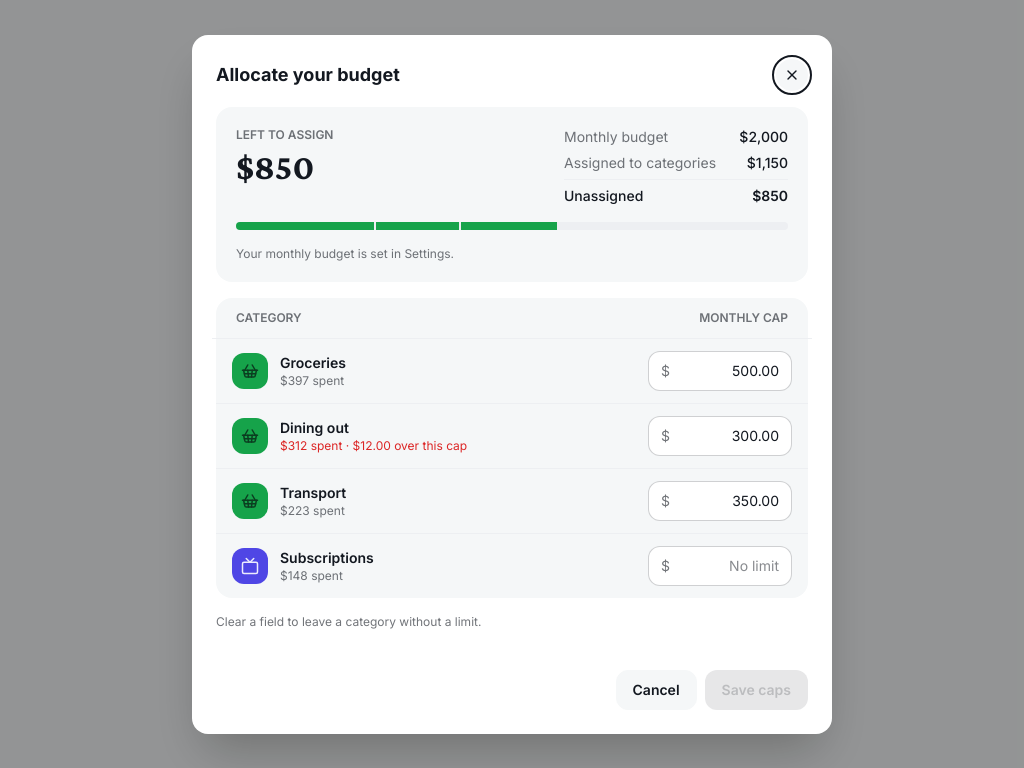
the four failures › reports invalid beside the form without refreshing behind itself
Replace the text in the field labelled "$" in the row of "Transport" with "250": (728, 500) [678, 482, 779, 520]
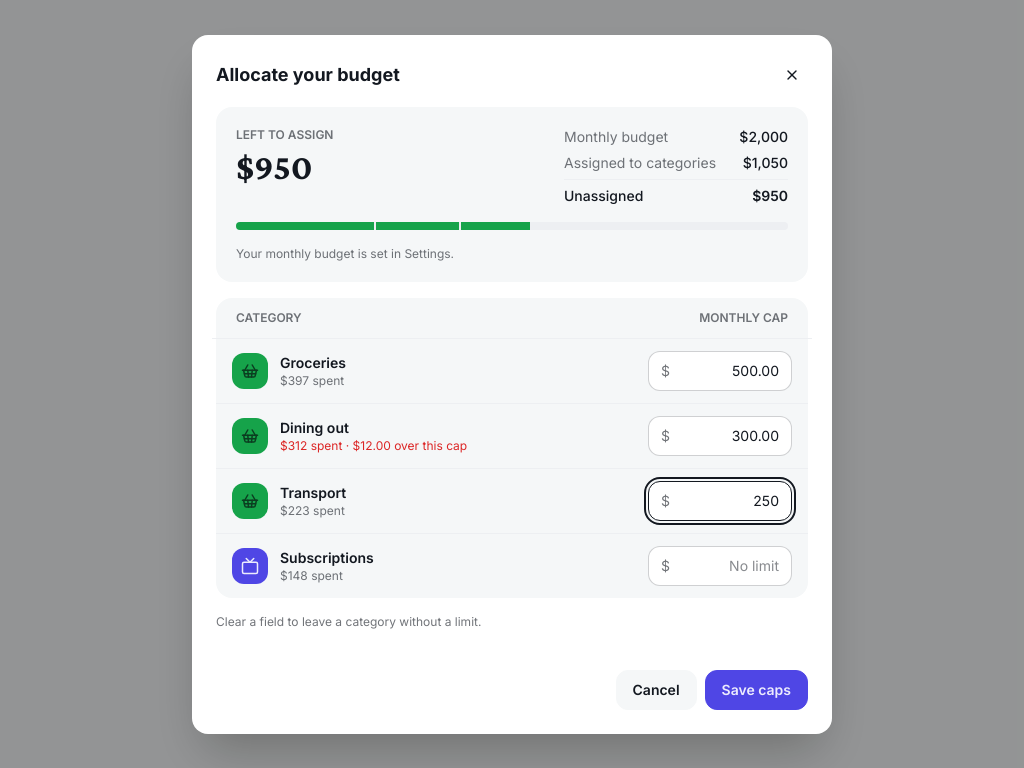
Click the button "Save caps": (756, 690) [705, 670, 808, 710]
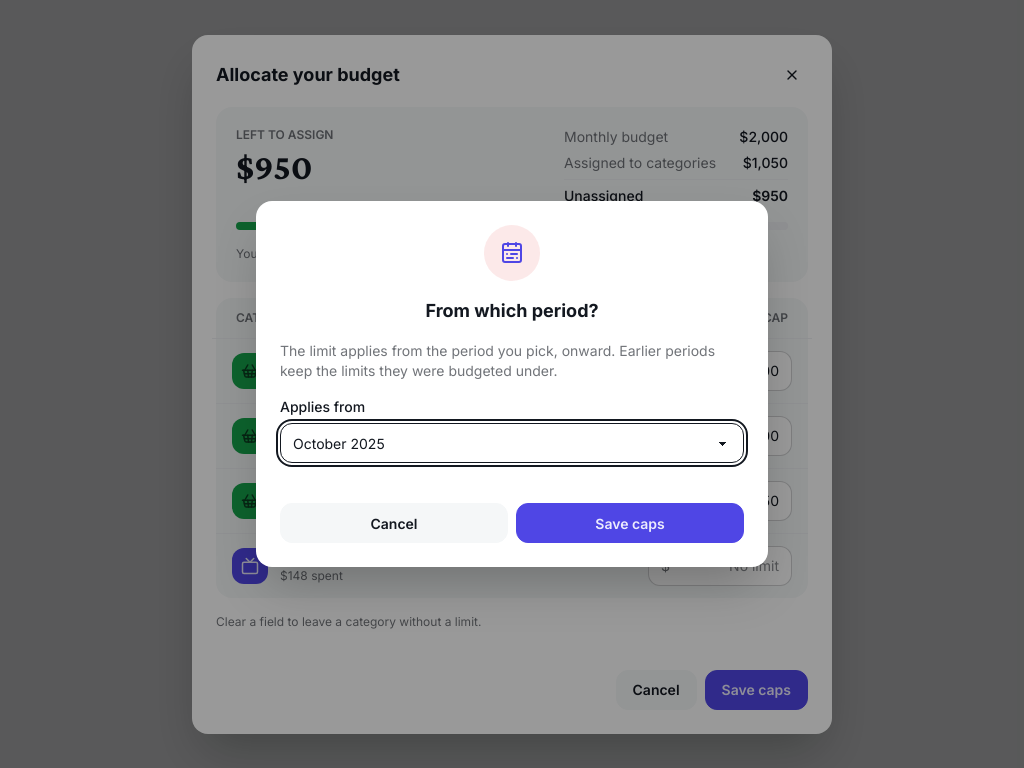
Click the button "Save caps": (630, 523) [516, 503, 744, 543]
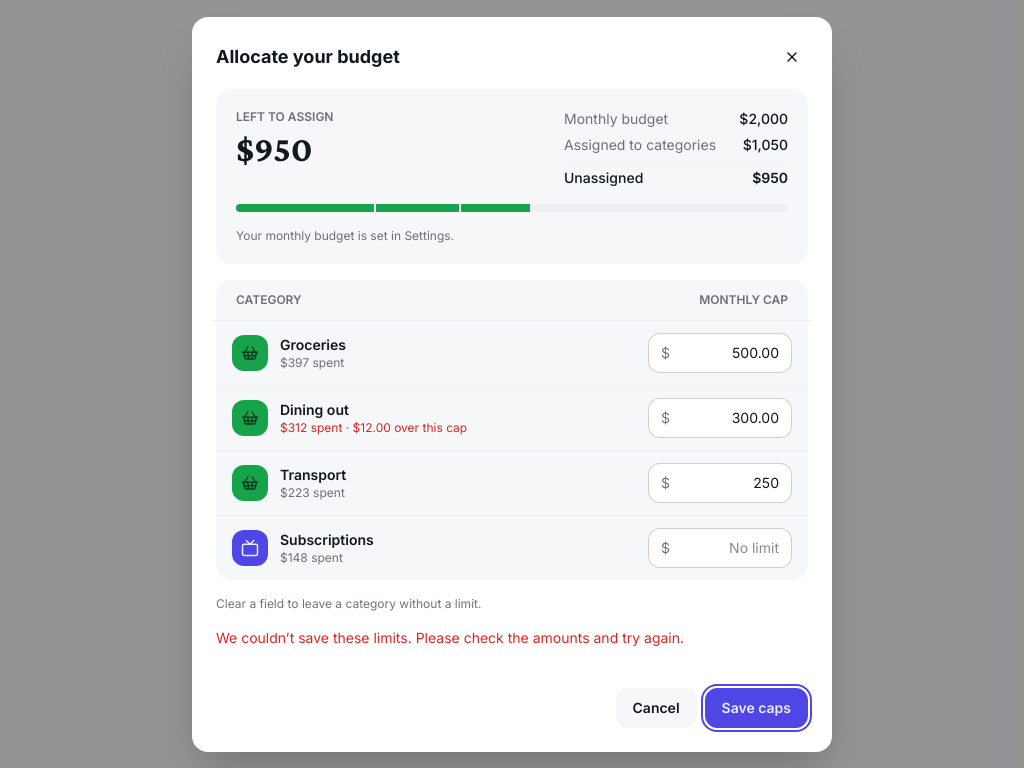
Expected: the message shows "check the amounts", [216, 628, 684, 646]
